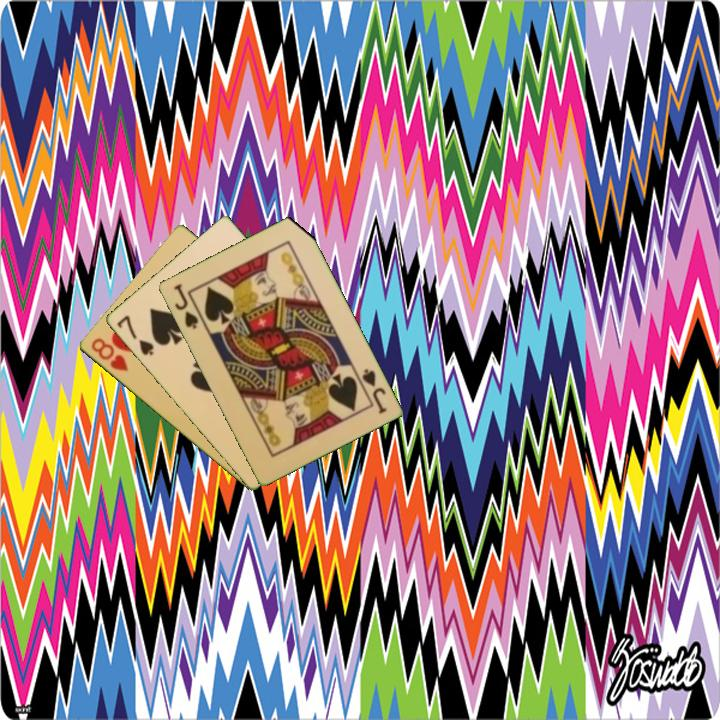7s: (113, 312, 156, 358)
8h: (87, 334, 131, 374)
Js: (170, 280, 201, 332), (358, 365, 389, 417)
